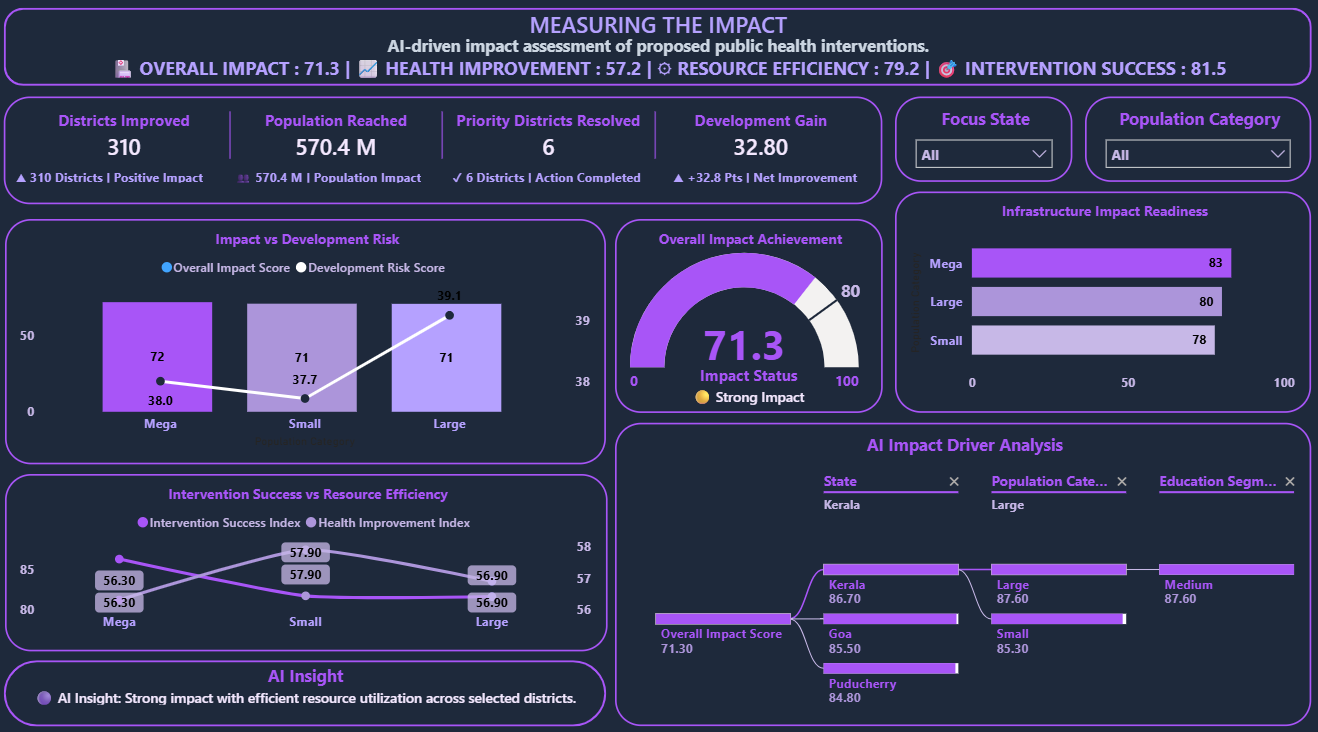

Layout of this report page (visuals, bound fields, positions):
{"tool":"powerbi","page":{"name":"Page 6","canvas":[1280,720],"ordinal":5},"visuals":[{"type":"textbox","box":[9.6,9.6,1261.1,49.4],"z":0},{"type":"textbox","box":[9.6,34.3,1261.1,43.9],"z":1000},{"type":"cardVisual","fields":{"Data":["page 6.Page6_InfoBar"]},"box":[19.2,31.6,1261.1,78.2],"z":2000},{"type":"shape","box":[8.2,13.7,1262.4,75.5],"z":3000},{"type":"cardVisual","fields":{"Data":["page 6.Districts Improved","page 6.Population Reached","page 6.Priority Districts Resolved","page 6.Development Gain"]},"box":[8.2,98.8,848,104.3],"z":4000},{"type":"cardVisual","fields":{"Data":["page 6.Districts Improved Subtitle","page 6.Population Reached Subtitle","page 6.Priority Districts Subtitle","page 6.Development Gain Subtitle"]},"box":[0,164.7,857.6,52.1],"z":5000},{"type":"slicer","title":"Focus State","fields":{"Values":["Dim_District_Profile.State"]},"box":[868.6,98.8,171.5,82.3],"z":6000},{"type":"slicer","title":"Population Category","fields":{"Values":["Dim_District_Profile.Population Category"]},"box":[1052.5,98.8,218.2,82.3],"z":7000},{"type":"clusteredBarChart","title":"Infrastructure Impact Readiness","fields":{"Category":["Dim_District_Profile.Population Category"],"Y":["page 6.Resource Efficiency Index"]},"box":[868.6,190.6,401.7,213.5],"z":8000},{"type":"lineClusteredColumnComboChart","title":"Impact vs Development Risk","fields":{"Category":["Dim_District_Profile.Population Category"],"Y":["page 6.Overall Impact Score"],"Y2":["Measure.Development Risk Score"]},"box":[9.7,217.2,580.3,236.5],"z":9000},{"type":"decompositionTreeVisual","title":"AI Impact Driver Analysis","fields":{"Analyze":["page 6.Overall Impact Score"],"ExplainBy":["Dim_District_Profile.State","Dim_District_Profile.Population Category","Dim_District_Profile.Education Segment"]},"box":[598.4,413.8,672,293.2],"z":10000},{"type":"lineChart","title":"Intervention Success vs Resource Efficiency","fields":{"Category":["Dim_District_Profile.Population Category"],"Y":["page 6.Intervention Success Index"],"Y2":["page 6.Health Improvement Index"]},"box":[9.7,463.3,581.5,171.3],"z":11000},{"type":"gauge","title":"Overall Impact Achievement","fields":{"Y":["page 6.Overall Impact Score"],"MaxValue":["Page 3.Gauge Max"],"MinValue":["Page 3.Gauge Min"],"TargetValue":["page 6.Gauge Targetss"]},"box":[598.4,217.2,258.2,187],"z":12000},{"type":"cardVisual","fields":{"Data":["page 6.Impact Status"]},"box":[555,329.4,345,124.3],"z":13000},{"type":"cardVisual","fields":{"Data":["page 6.AI Dynamic Insight"]},"box":[9.7,643,580.3,77.2],"z":14000},{"type":"shape","box":[8.4,643,581.5,63.9],"z":15000}]}

Visuals, with their boxes in screenshot pixels (x1, y1, x2, y2), scaled from the page's 1280x720 canvas onto the 1318x732 screenshot:
textbox: 10:10:1308:60
textbox: 10:35:1308:80
cardVisual - page 6.Page6_InfoBar: 20:32:1317:112
shape: 8:14:1308:91
cardVisual - page 6.Districts Improved x page 6.Population Reached: 8:100:882:206
cardVisual - page 6.Districts Improved Subtitle x page 6.Population Reached Subtitle: 0:167:883:220
"Focus State" slicer: 894:100:1071:184
"Population Category" slicer: 1084:100:1308:184
"Infrastructure Impact Readiness" clusteredBarChart: 894:194:1308:411
"Impact vs Development Risk" lineClusteredColumnComboChart: 10:221:608:461
"AI Impact Driver Analysis" decompositionTreeVisual: 616:421:1308:719
"Intervention Success vs Resource Efficiency" lineChart: 10:471:609:645
"Overall Impact Achievement" gauge: 616:221:882:411
cardVisual - page 6.Impact Status: 571:335:927:461
cardVisual - page 6.AI Dynamic Insight: 10:654:608:731
shape: 9:654:607:719
